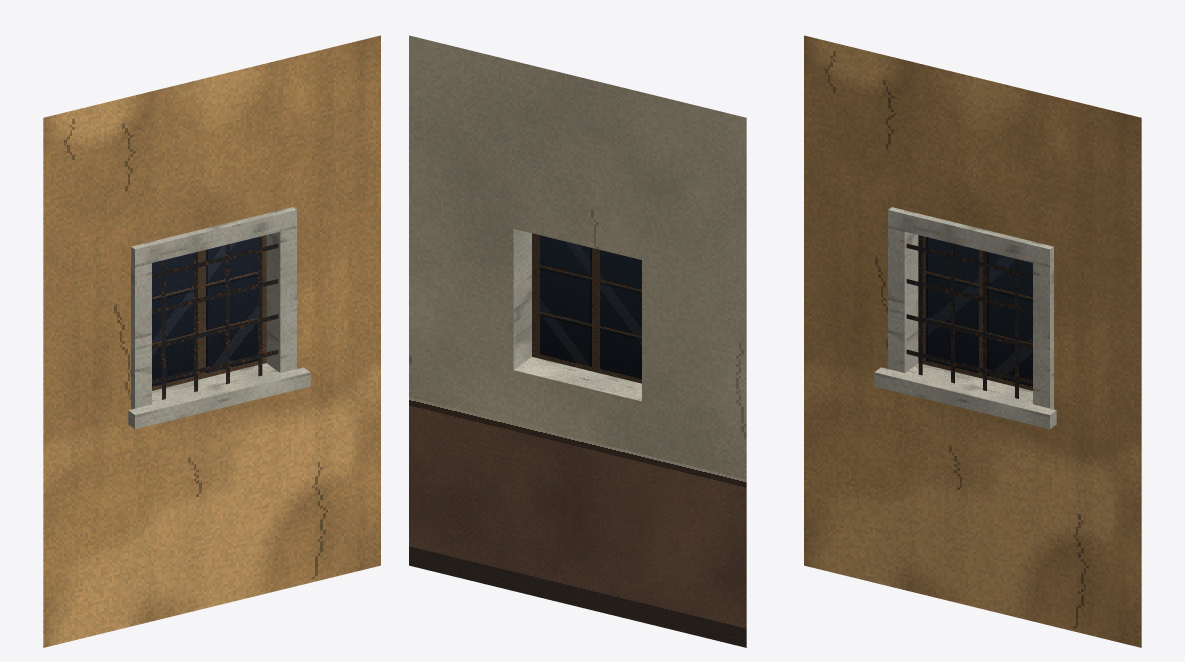
File: ext_window_grille.gltf
3 views of the same model, side by side, from view 1: azimuth 30°, elevation 25°; view 2: azimuth 150°, elevation 25°; view 3: azimuth 330°, elevation 25° (orthographic).
Parts seen in each view (by area): view 1: ext_window_grille; view 2: ext_window_grille; view 3: ext_window_grille.
Boxes of the visible parts, x1,y1,x2,y2 form: ext_window_grille: (43, 35, 380, 647); ext_window_grille: (409, 35, 746, 647); ext_window_grille: (804, 35, 1141, 647).
Size of what is drawn, in the model's own units: 2 by 3 by 0.41.
5 materials, 5 textured.
